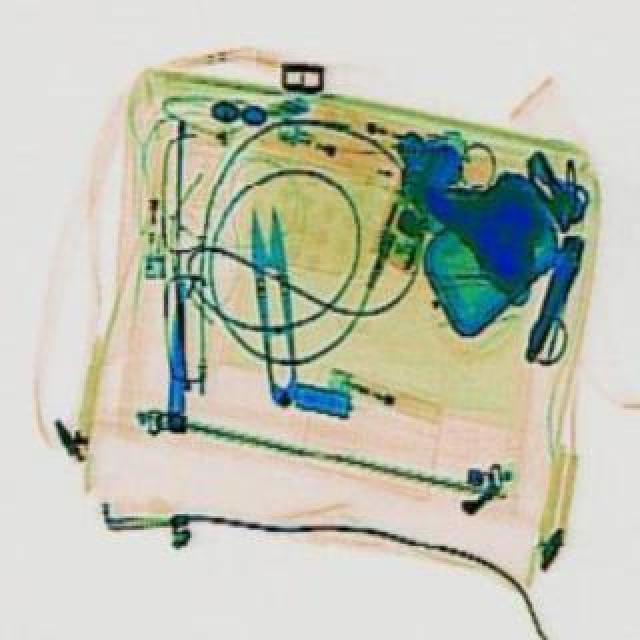pliers: (244, 204, 300, 408)
